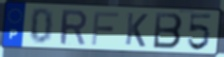0: (30, 8, 55, 46)
5: (186, 12, 212, 52)
B: (152, 11, 184, 51)
F: (90, 10, 120, 46)
K: (123, 11, 149, 49)
R: (59, 9, 89, 47)
